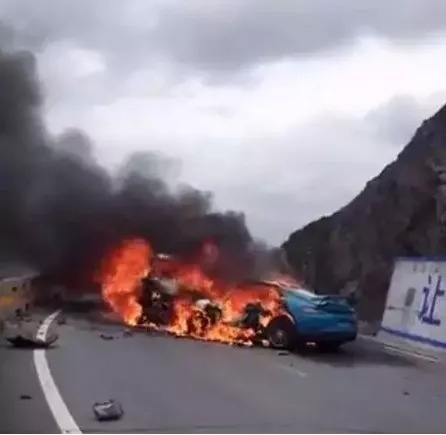fire: (94, 236, 301, 346)
